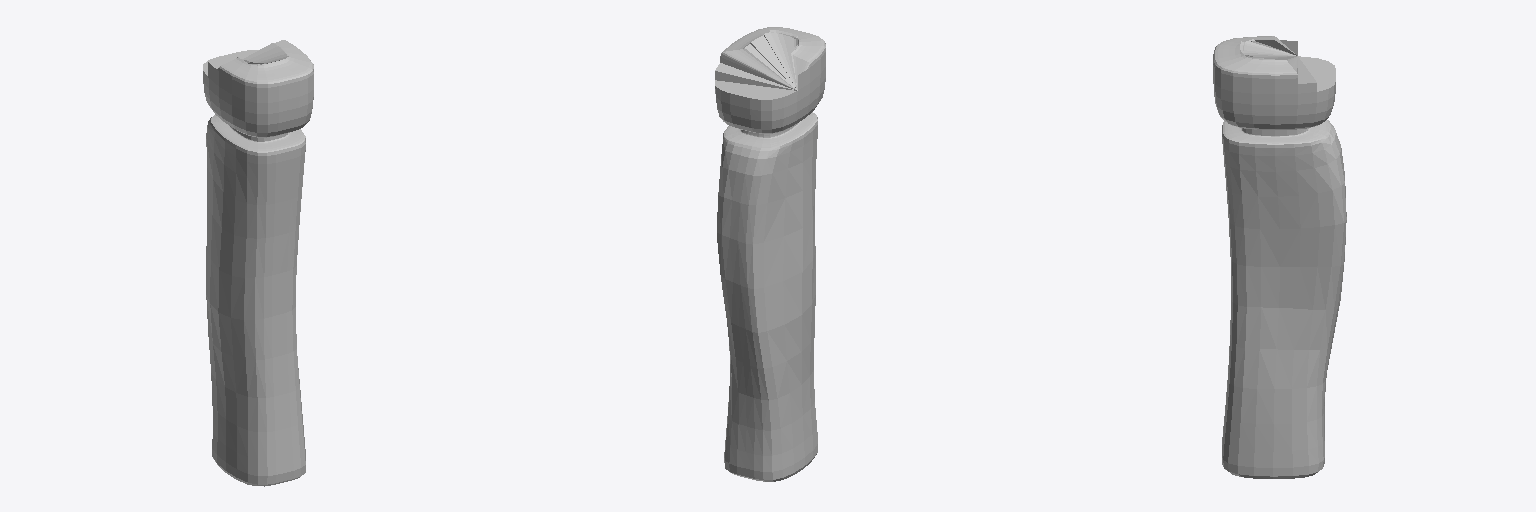
Rendered from Pierna Derecha.obj.
3 renders of one model, left to right at view 1: azimuth 30°, elevation 25°; view 2: azimuth 150°, elevation 25°; view 3: azimuth 270°, elevation 25°, orthographic.
Visible parts, largest first — view 1: Cyborg.Mesh_Cube; view 2: Cyborg.Mesh_Cube; view 3: Cyborg.Mesh_Cube.
Part boxes in pixels (left/top/right/bottom): Cyborg.Mesh_Cube: left=203, top=40, right=313, bottom=486; Cyborg.Mesh_Cube: left=715, top=27, right=825, bottom=481; Cyborg.Mesh_Cube: left=1213, top=36, right=1346, bottom=478.
Size of the model in its own units: 0.5995 by 3.01 by 0.8693.